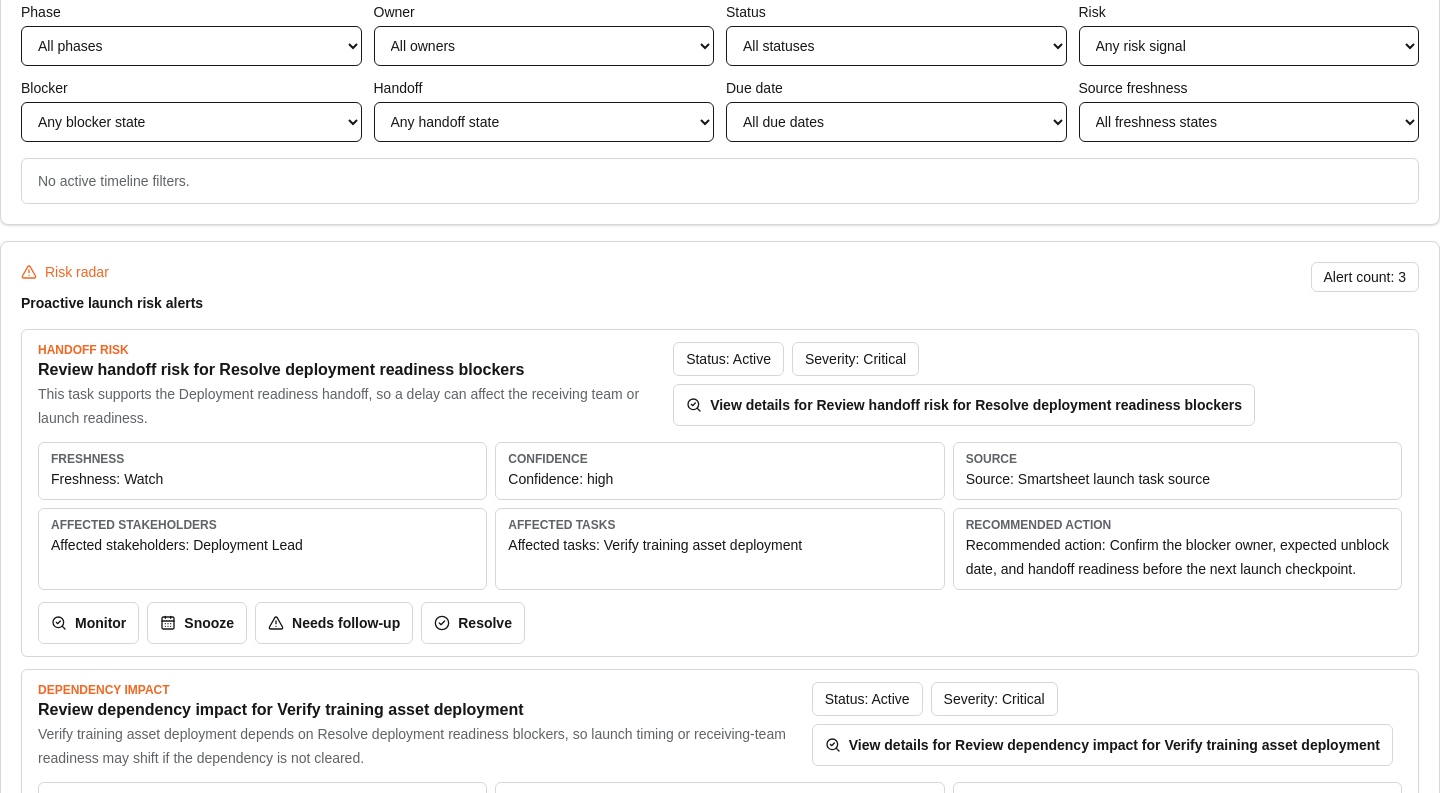
Test: LaunchPlanStarterPanel › surfaces proactive launch risk alerts with details, actions, and audit state
(page scrolled)
Expected: the element named "risk alert: review handoff risk for resolve deployment readiness blockers" shows "status: active", x1=21 y1=329 x2=1419 y2=657
Expected: the element named "risk alert: review handoff risk for resolve deployment readiness blockers" shows "freshness: watch", x1=21 y1=329 x2=1419 y2=657
Click the button "View details for Review handoff risk for Resolve deployment readiness blockers". click: {"x": 964, "y": 405}
box: x1=673 y1=384 x2=1255 y2=426
(page scrolled)
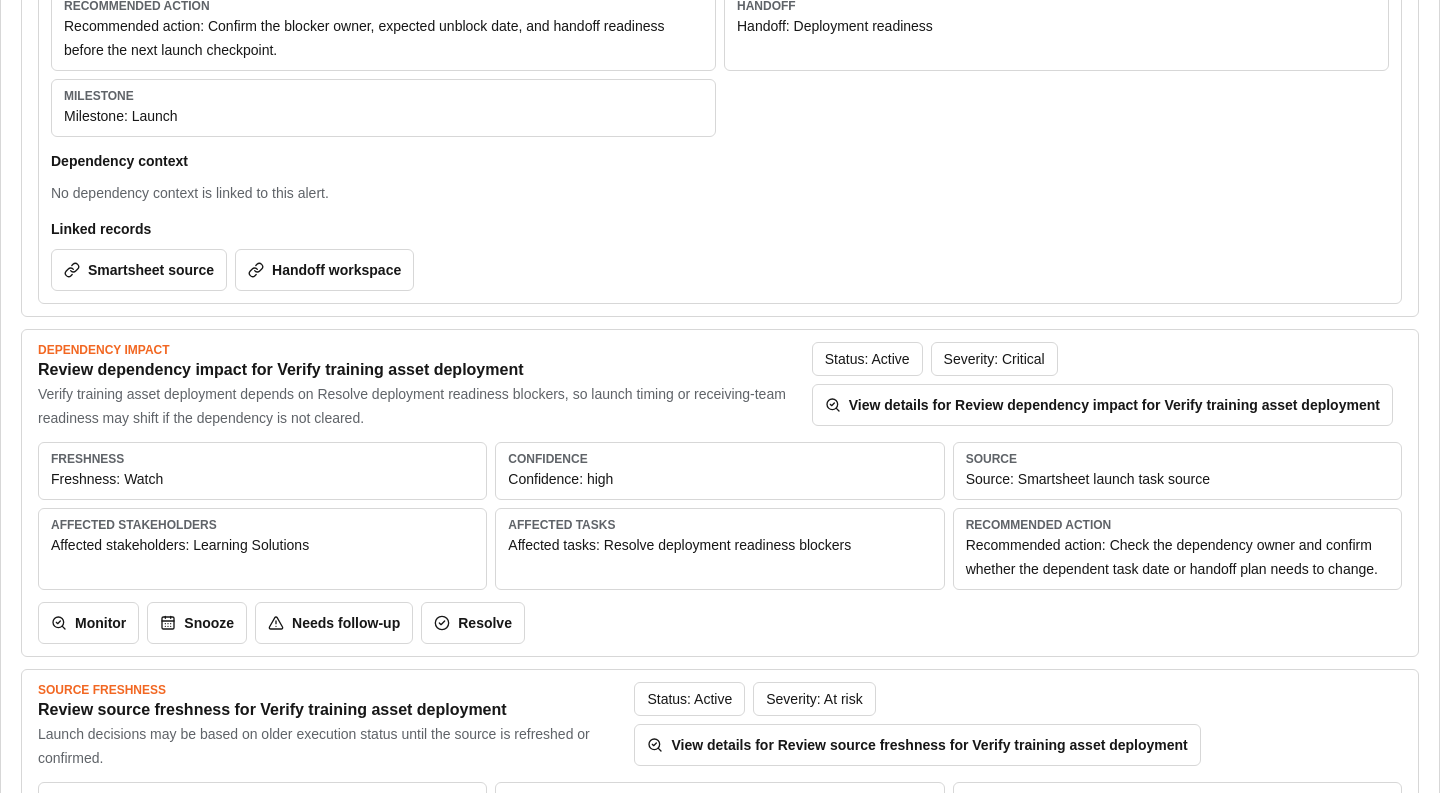
Result: the element named "risk alert details: review handoff risk for resolve deployment readiness blockers" shows "linked records" at x1=51 y1=221 x2=151 y2=237
Click the button "View details for Review dependency impact for Verify training asset deployment". click: {"x": 1102, "y": 405}
box: x1=812 y1=384 x2=1393 y2=426
(page scrolled)
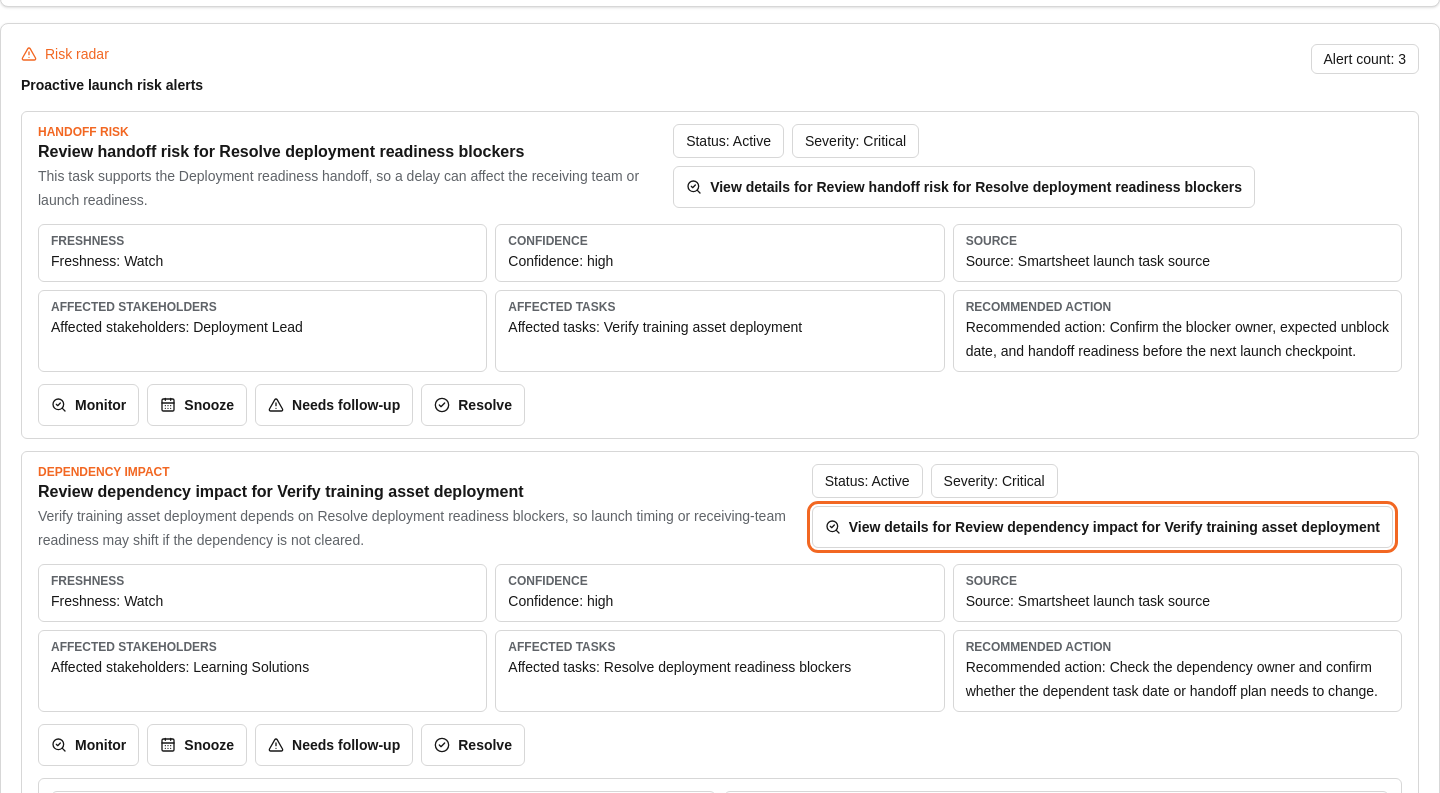
Click the button named "mark monitoring for review handoff risk for resolve deployment readiness blockers". click: {"x": 89, "y": 405}
box: x1=38 y1=384 x2=139 y2=426
(page scrolled)
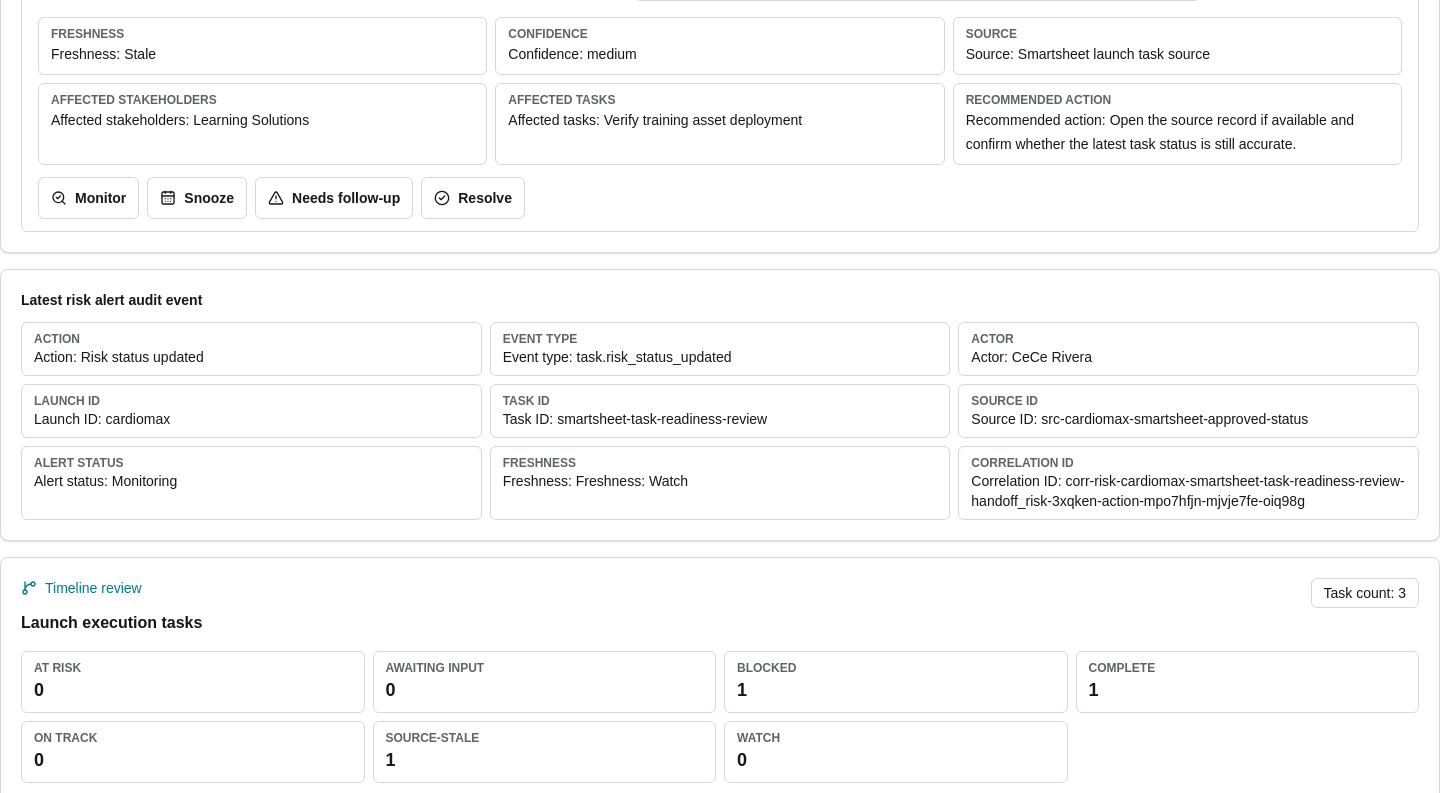
Expected: the element "Latest risk alert audit event" shows "task id: smartsheet-task-readiness-review", x1=0 y1=269 x2=1439 y2=541
Result: the element "Latest risk alert audit event" shows "event type: task.risk_status_updated" at x1=0 y1=269 x2=1439 y2=541
Result: the element "Latest risk alert audit event" shows "alert status: monitoring" at x1=0 y1=269 x2=1439 y2=541
